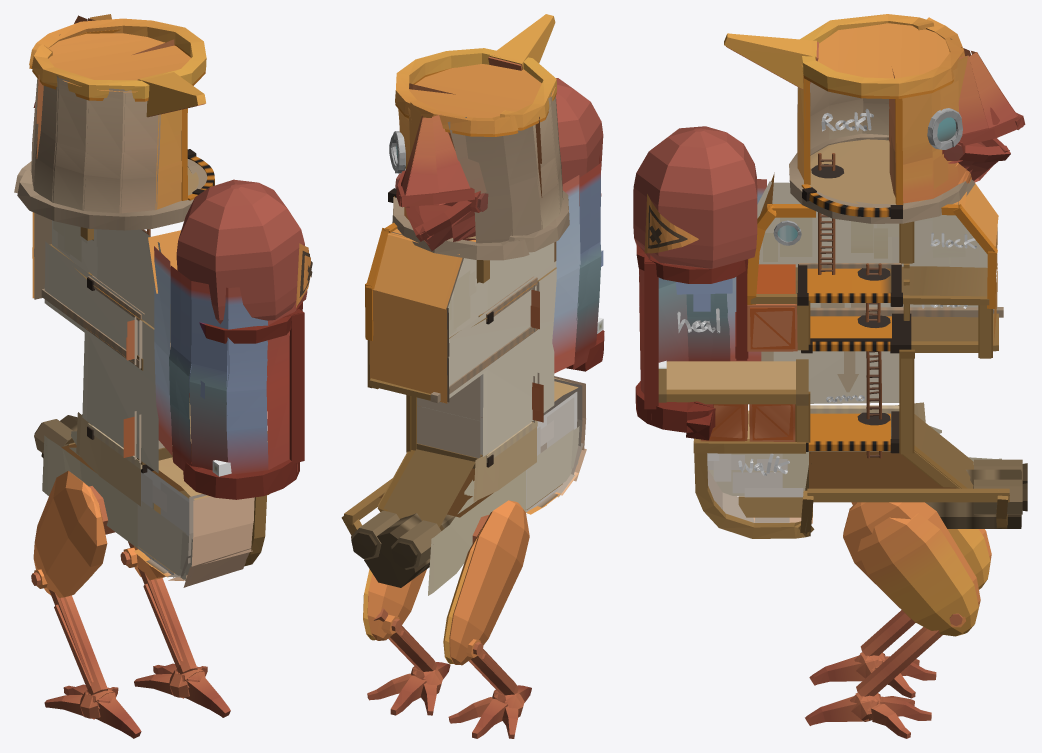
File: Robot_mech.fbx
The picture shows the model from 3 angles, left to right: view 1: azimuth 30°, elevation 25°; view 2: azimuth 150°, elevation 25°; view 3: azimuth 270°, elevation 25°; orthographic projection. The views are drawn at different scales.
Parts seen in each view (by area): view 1: Robohead; view 2: Robohead; view 3: Robohead, Rooms.
Part boxes in pixels (x1,y1,x2,y2): Robohead: (14,14,312,738); Robohead: (341,14,604,738); Robohead: (633,14,1027,738); Rooms: (677,109,976,475).
Size of the model in its own units: 12.15 by 41.23 by 22.37.
